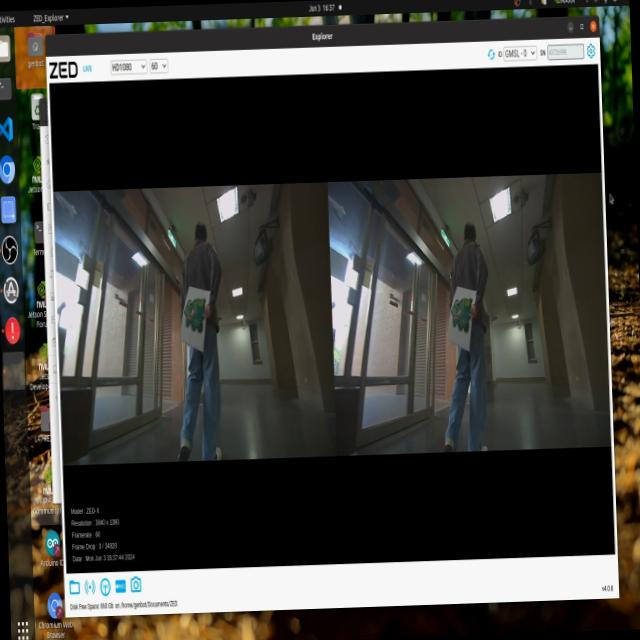green: (448, 294, 479, 338), (184, 285, 210, 333)
